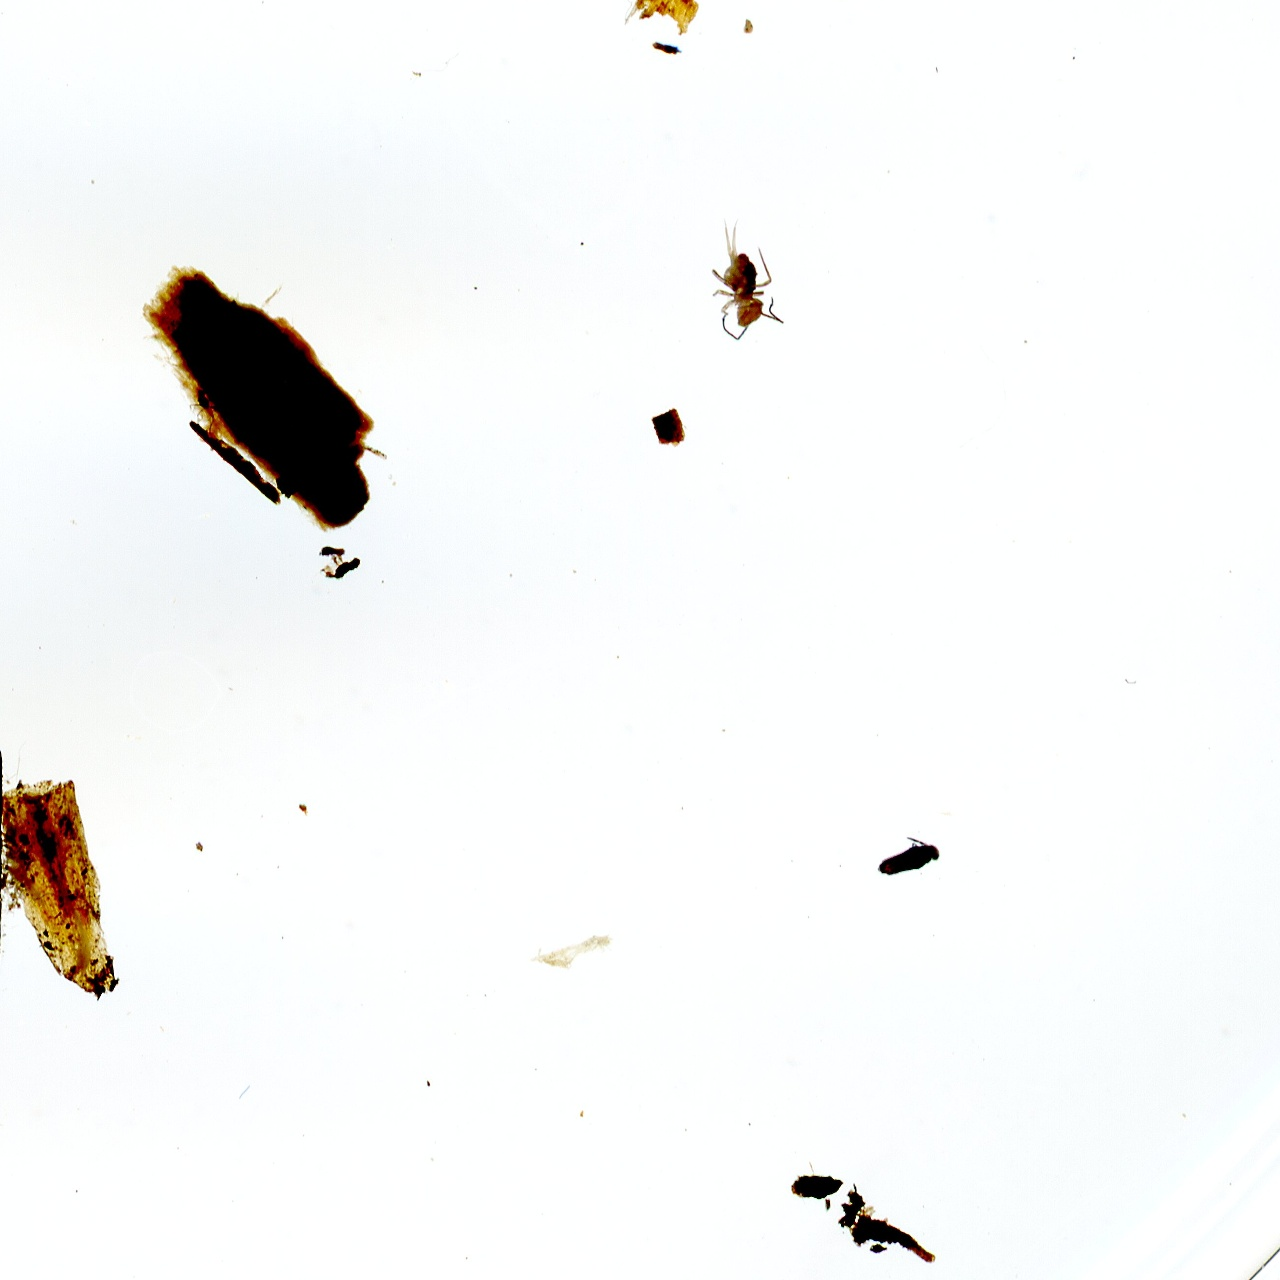arthropod: (706, 211, 782, 339), (866, 825, 946, 887)
